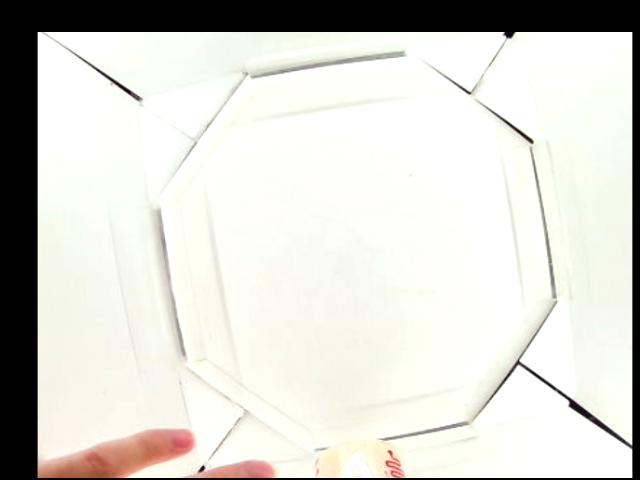Bottle: (312, 439, 403, 478)
